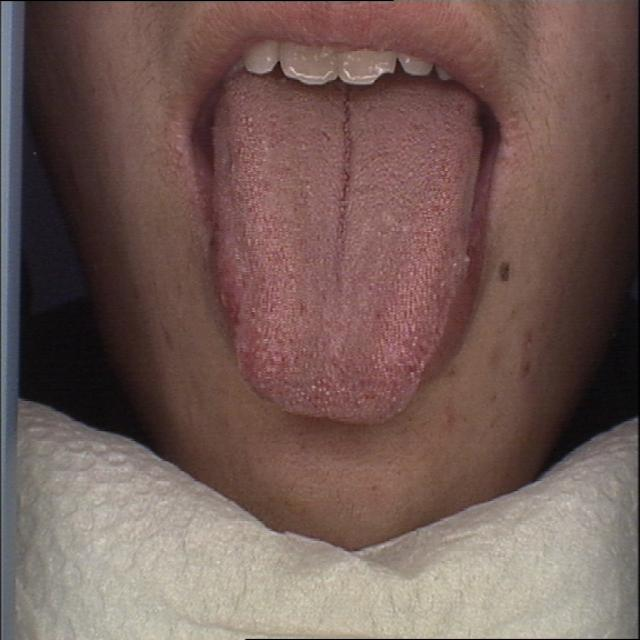tongue: (220, 74, 483, 432)
